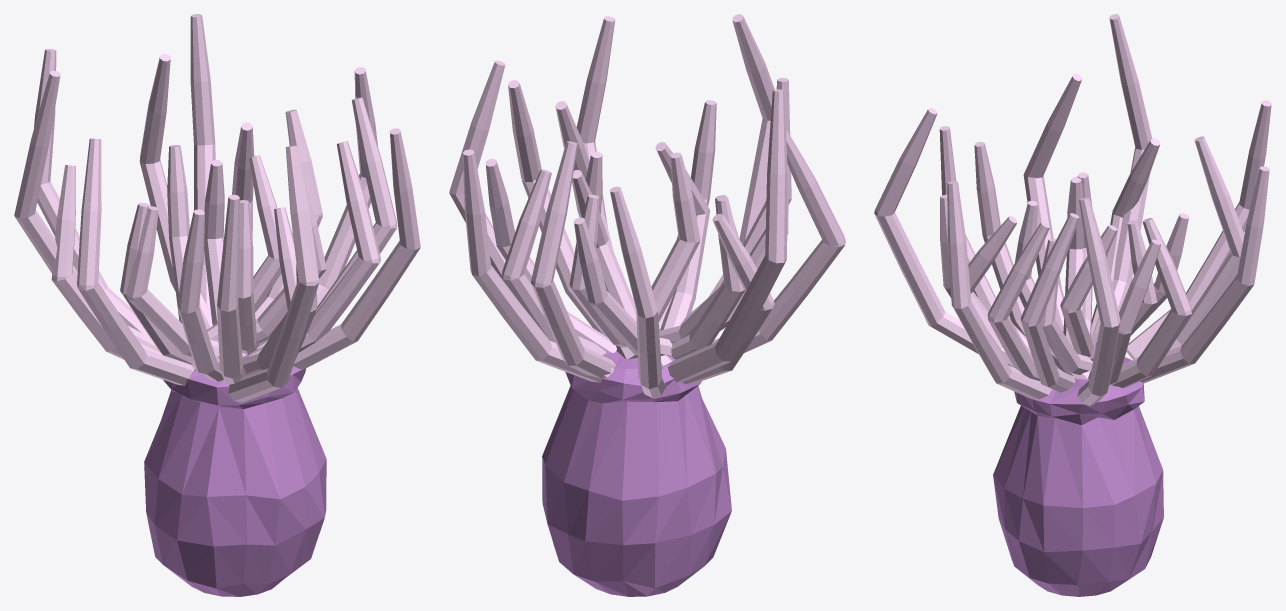
Rendered from seaweed.glb.
3 views of the same model, side by side, from view 1: azimuth 30°, elevation 25°; view 2: azimuth 150°, elevation 25°; view 3: azimuth 270°, elevation 25° (orthographic). The views are drawn at different scales.
Visible parts, largest first — view 1: Anemone; view 2: Anemone; view 3: Anemone.
Boxes of the visible parts, x1,y1,x2,y2 form: Anemone: (14,14,420,596); Anemone: (449,14,845,596); Anemone: (874,14,1271,596).
Size of the model in its own units: 89.97 by 131 by 96.55.
1 material, 1 textured.
